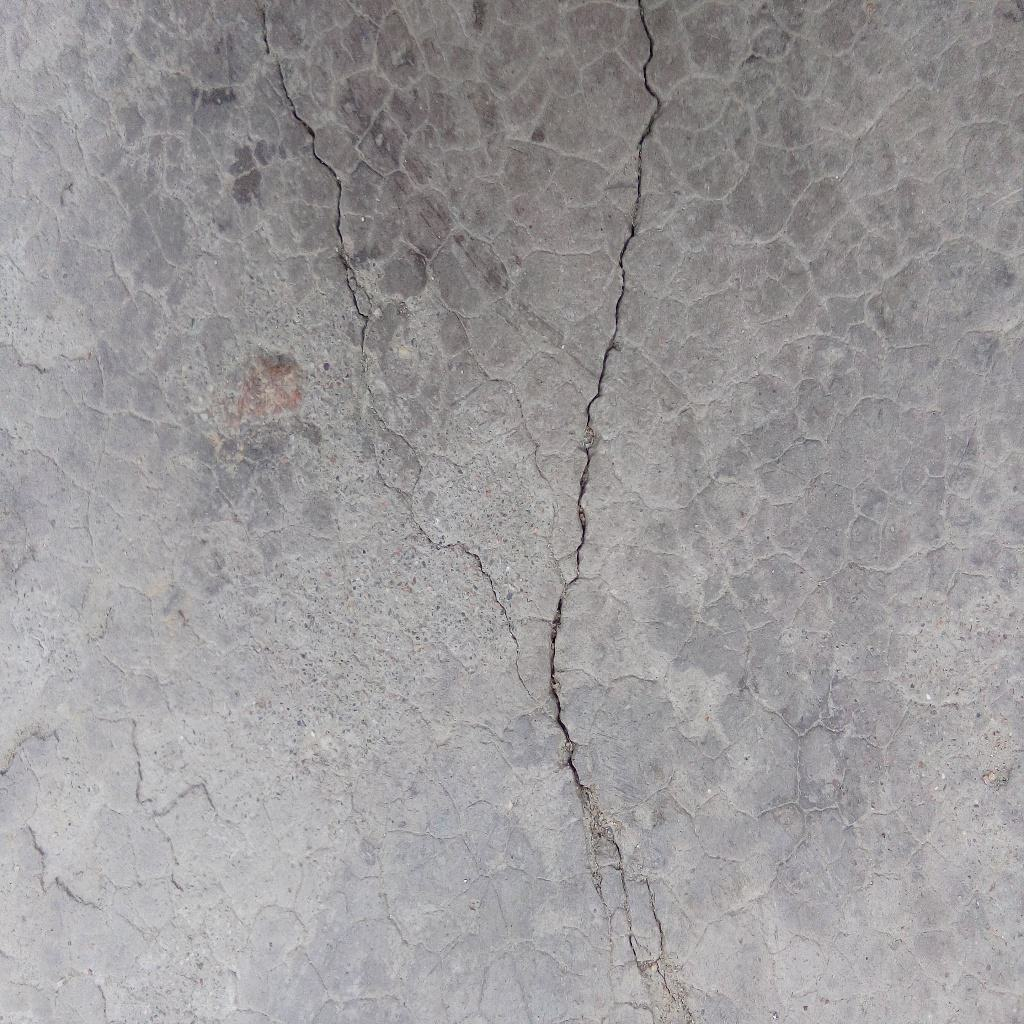Crack: (258, 1, 536, 701), (548, 1, 697, 1024)
